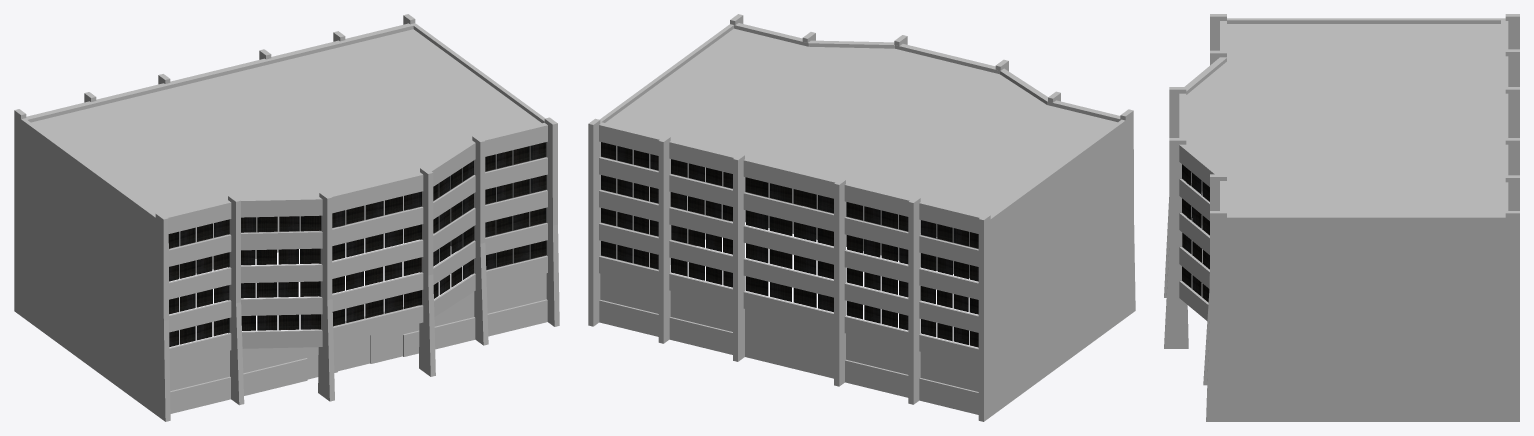
The picture shows the model from 3 angles, left to right: view 1: azimuth 30°, elevation 25°; view 2: azimuth 150°, elevation 25°; view 3: azimuth 270°, elevation 25°; orthographic projection. The views are drawn at different scales.
Parts seen in each view (by area): view 1: BB-073; view 2: BB-073; view 3: BB-073.
Boxes of the visible parts, <box> form: BB-073: <box>14,14,559,421</box>; BB-073: <box>588,14,1135,421</box>; BB-073: <box>1164,14,1519,421</box>.
Size of what is drawn, in the model's own units: 37.7 by 18.37 by 28.42.
